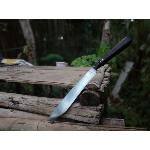Golok: (45, 37, 135, 125)
